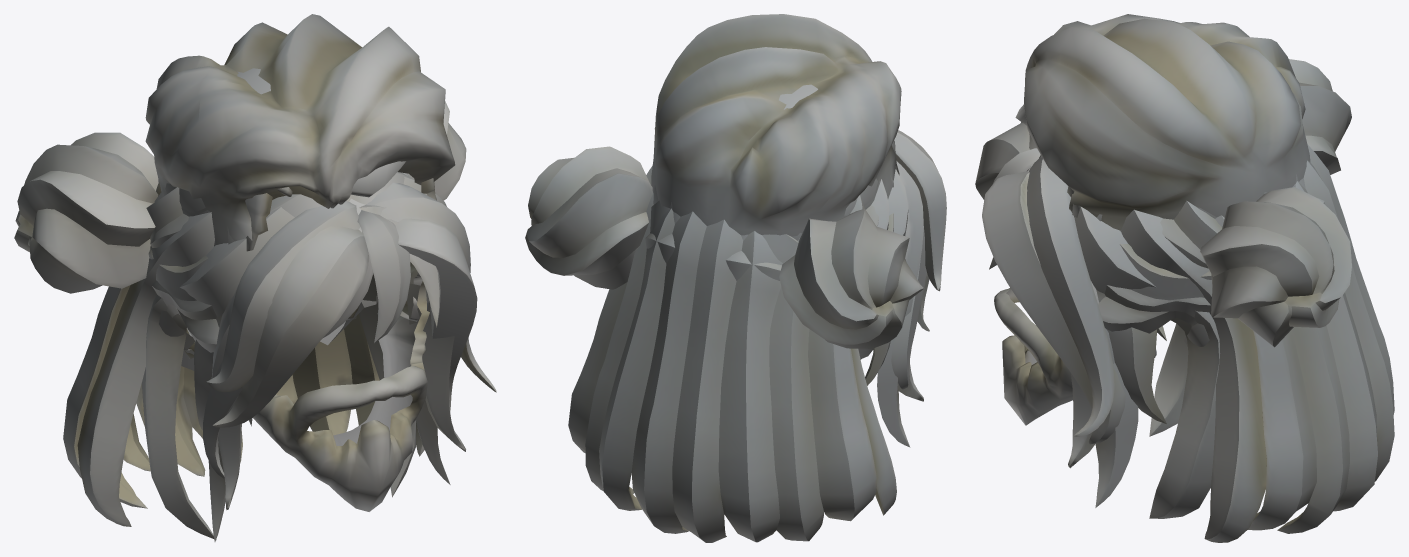
Rendered from hair.glb.
3 renders of one model, left to right at view 1: azimuth 30°, elevation 25°; view 2: azimuth 150°, elevation 25°; view 3: azimuth 270°, elevation 25°, orthographic. The views are drawn at different scales.
Parts seen in each view (by area): view 1: Hair_Long, Hair_SimpleParted, Hair_Buns, Hair_Beard, Hair_Buzzed; view 2: Hair_Long, Hair_SimpleParted, Hair_Buns, Hair_Buzzed; view 3: Hair_Long, Hair_SimpleParted, Hair_Buns, Hair_Beard.
Boxes of the visible parts, bbox=[...] form: Hair_Long: bbox=[63, 173, 496, 539]; Hair_SimpleParted: bbox=[145, 14, 455, 244]; Hair_Buns: bbox=[14, 101, 466, 541]; Hair_Beard: bbox=[253, 262, 429, 511]; Hair_Buzzed: bbox=[161, 68, 436, 251]; Hair_Long: bbox=[568, 130, 946, 542]; Hair_SimpleParted: bbox=[651, 14, 901, 236]; Hair_Buns: bbox=[525, 146, 923, 447]; Hair_Buzzed: bbox=[653, 84, 899, 240]; Hair_Long: bbox=[975, 122, 1394, 542]; Hair_SimpleParted: bbox=[1024, 14, 1310, 230]; Hair_Buns: bbox=[989, 59, 1351, 507]; Hair_Beard: bbox=[994, 288, 1156, 425].
Bounding box in the file's own units: 0.3015 × 0.3389 × 0.2704.
2 materials, 2 textured.
